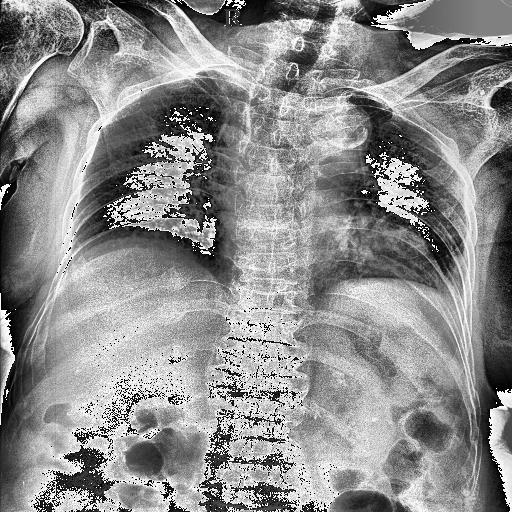0- Aortic enlargement: (220, 78, 376, 186), (299, 88, 376, 185)
2- Calcification: (220, 78, 376, 186), (312, 113, 376, 155)
3- Cardiomegaly: (190, 179, 446, 291)
